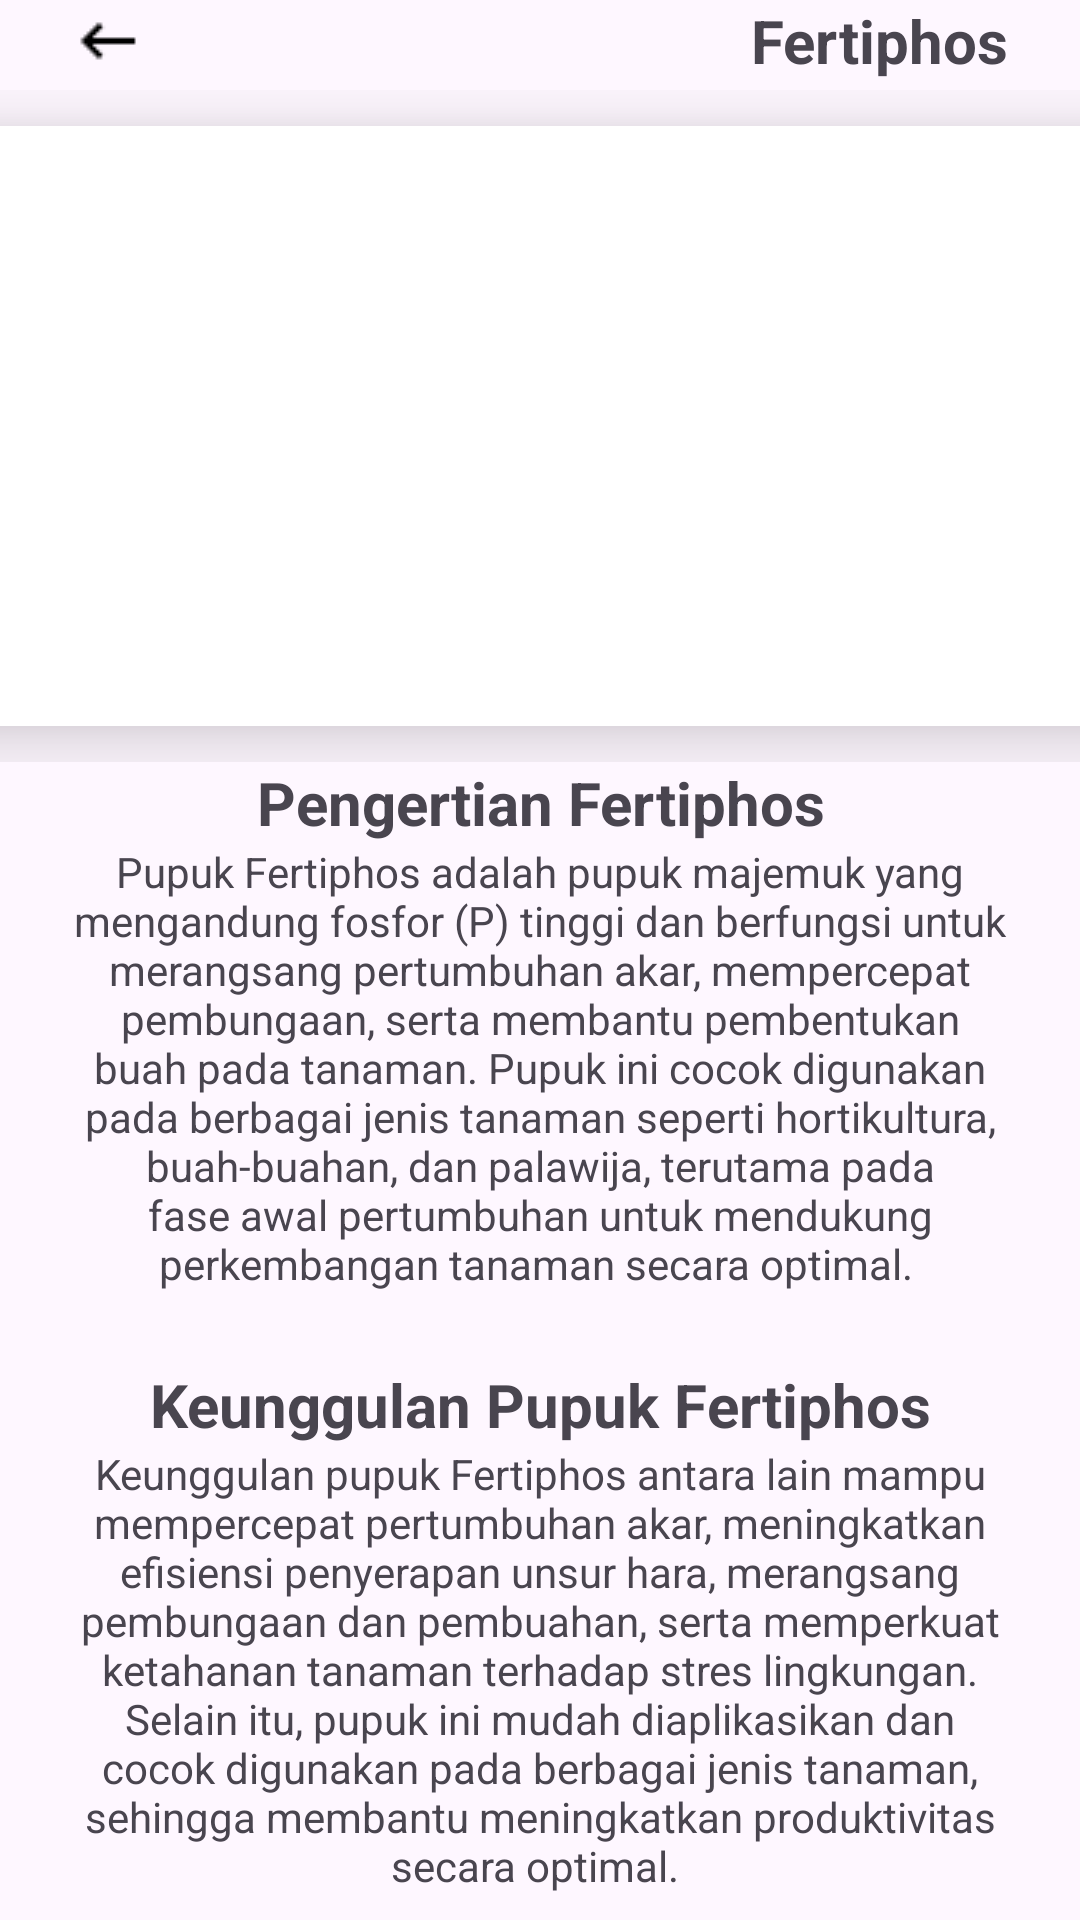

Point at icon controls on the screen. Image size 1080*1920, points as point (x, y).
keyboard backspace: point (108, 41)
